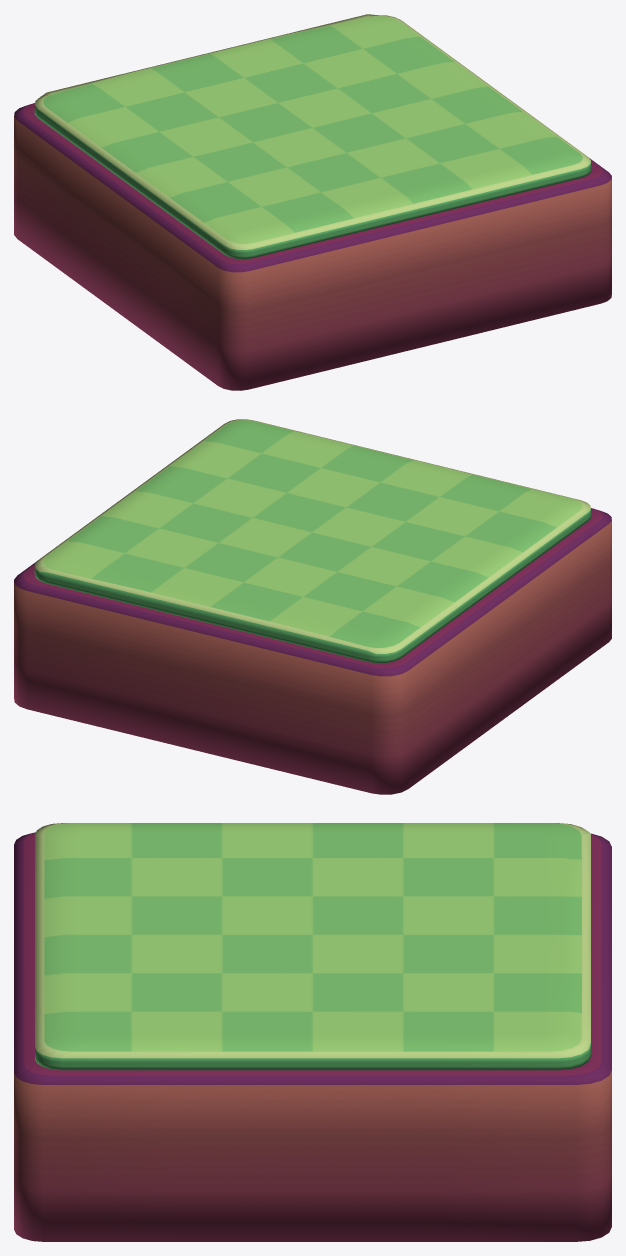
3 renders of one model, top to bottom at view 1: azimuth 30°, elevation 25°; view 2: azimuth 150°, elevation 25°; view 3: azimuth 270°, elevation 25°, orthographic. The views are drawn at different scales.
Parts seen in each view (by area): view 1: Platform Grass 6, Platform Soil 6; view 2: Platform Soil 6, Platform Grass 6; view 3: Platform Grass 6, Platform Soil 6.
Part boxes in pixels (x1,y1,x2,y2): Platform Grass 6: (34,14,590,259); Platform Soil 6: (14,103,611,390); Platform Soil 6: (14,508,611,794); Platform Grass 6: (34,419,590,663); Platform Grass 6: (35,823,590,1070); Platform Soil 6: (14,832,611,1241).
Size of the model in its own units: 600 by 200 by 600.
2 materials, 2 textured.
